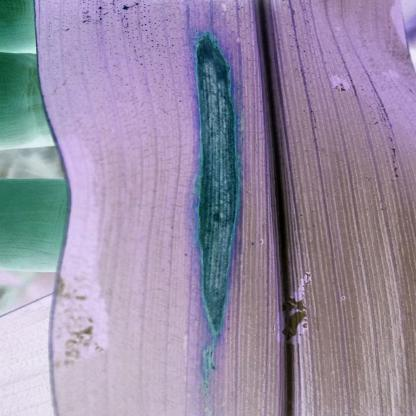Corn leaf blight: (48, 0, 404, 416)
